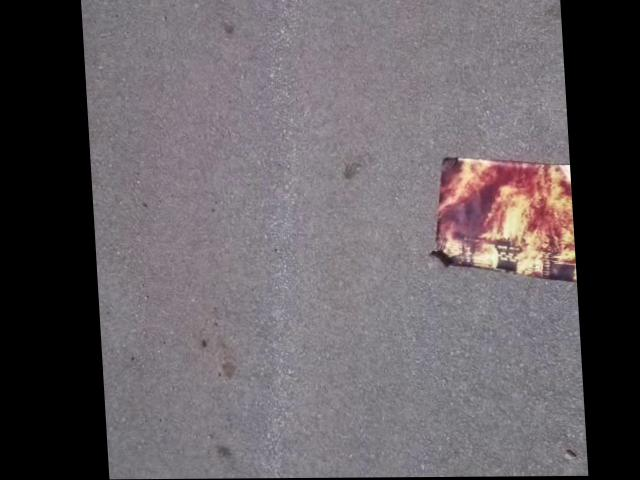fire-poster: (417, 154, 573, 289)
